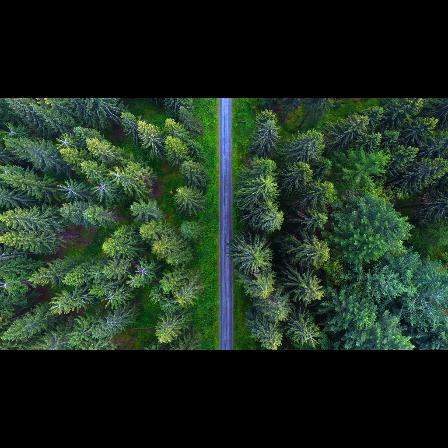Sick: (128, 258, 158, 284), (90, 176, 115, 201), (58, 177, 83, 201), (53, 133, 77, 153)
